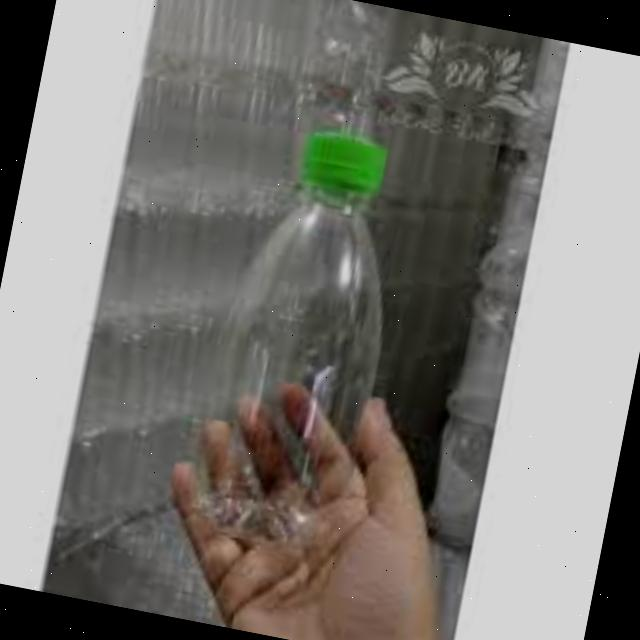trash: (154, 100, 456, 599)
